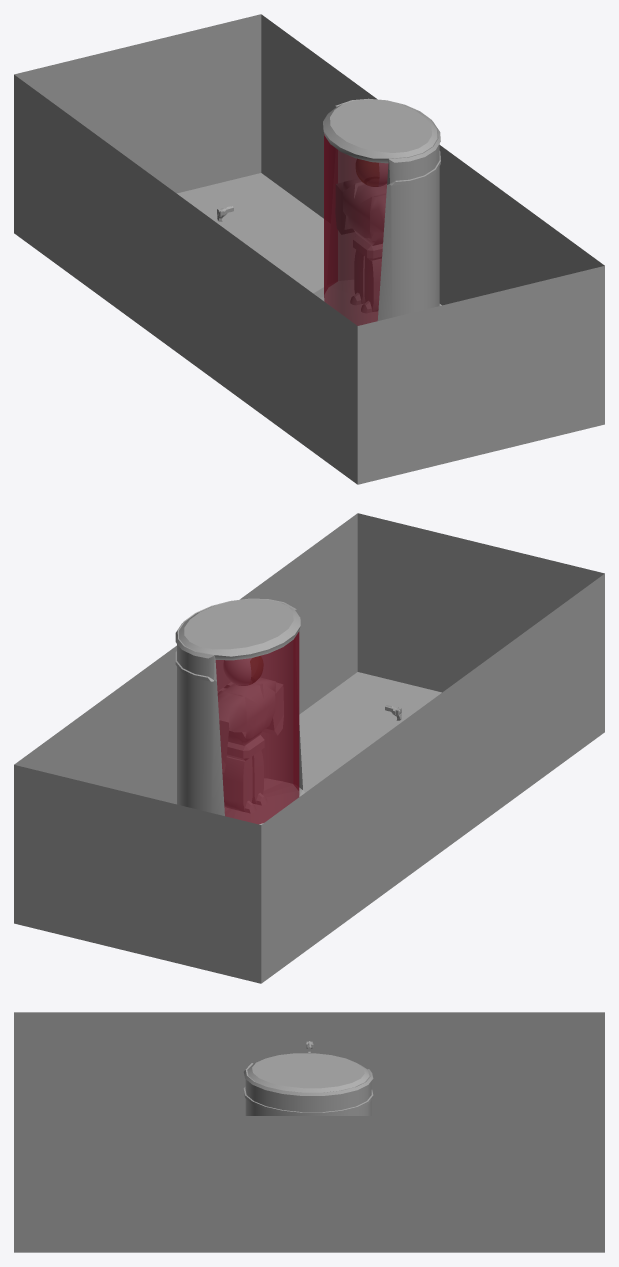
File: EVASuitStorage.fbx
3 renders of one model, top to bottom at view 1: azimuth 30°, elevation 25°; view 2: azimuth 150°, elevation 25°; view 3: azimuth 270°, elevation 25°, orthographic. The views are drawn at different scales.
Visible parts, largest first — view 1: pCube1, pasted__pCylinder1, pasted__pasted__pCube1, pasted__pasted__pCube4, pasted__pSphere1; view 2: pCube1, pasted__pCylinder1, pasted__pasted__pCube1, pasted__pasted__pCube3, pasted__pSphere1; view 3: pCube1, pasted__pCylinder1.
Boxes of the visible parts, x1,y1,x2,y2 form: pCube1: (14, 14, 604, 484); pasted__pCylinder1: (313, 98, 440, 325); pasted__pasted__pCube1: (335, 178, 386, 245); pasted__pasted__pCube4: (361, 257, 381, 312); pasted__pSphere1: (356, 159, 387, 186); pCube1: (14, 513, 604, 983); pasted__pCylinder1: (175, 598, 305, 824); pasted__pasted__pCube1: (218, 678, 283, 772); pasted__pasted__pCube3: (222, 756, 255, 813); pasted__pSphere1: (223, 656, 263, 685); pCube1: (14, 1012, 604, 1252); pasted__pCylinder1: (243, 1053, 373, 1115).
Size of the model in its own units: 9.24 by 6.64 by 22.25.
